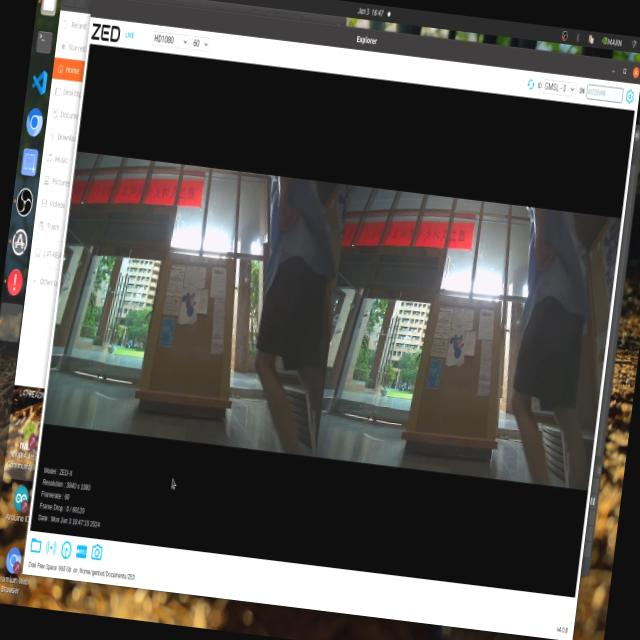blue: (442, 325, 471, 367), (176, 282, 200, 320)
